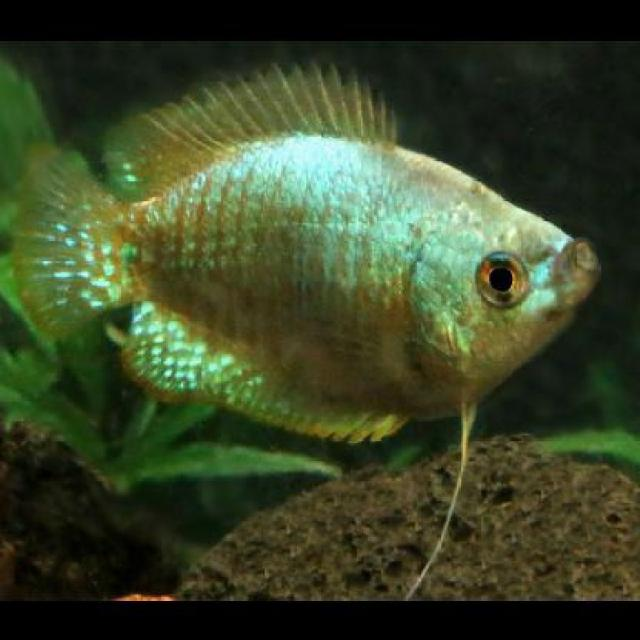Gourami: (13, 52, 602, 440)
